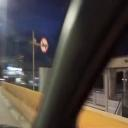NoUltrapassar: (39, 35, 49, 55)
